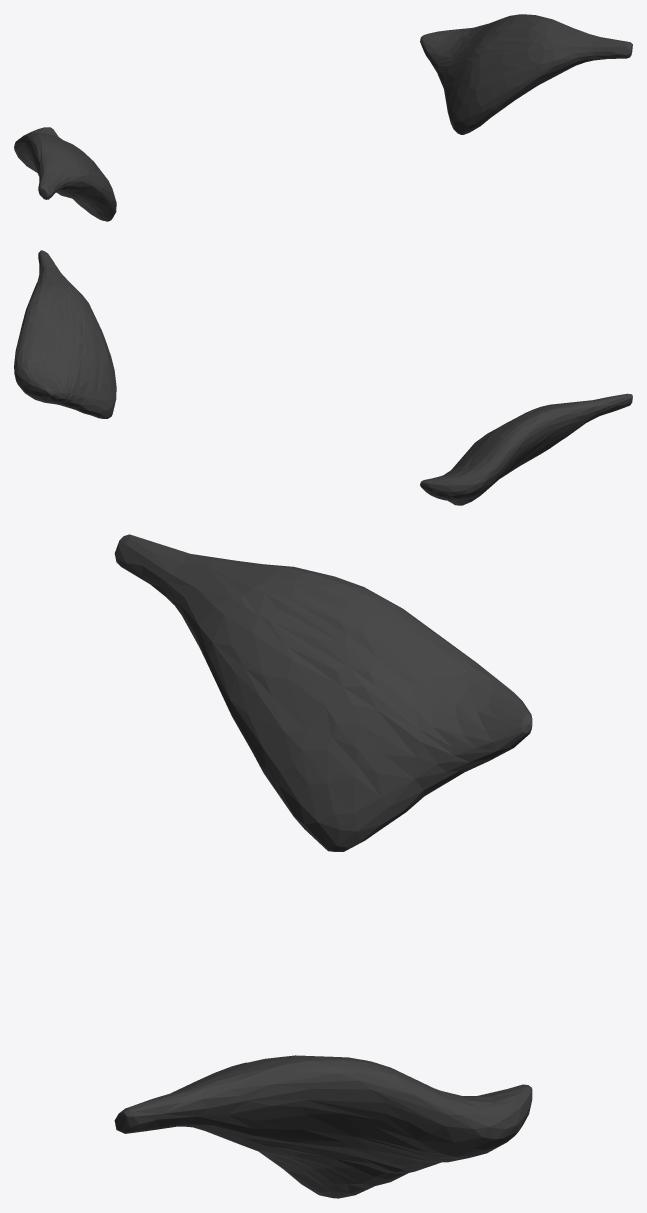
The model's file is m_gemellus.glb.
The picture shows the model from 3 angles, top to bottom: view 1: azimuth 30°, elevation 25°; view 2: azimuth 150°, elevation 25°; view 3: azimuth 270°, elevation 25°; orthographic projection. The views are drawn at different scales.
Parts seen in each view (by area): view 1: m_gemellus; view 2: m_gemellus; view 3: m_gemellus.
Part boxes in pixels (x1,y1,x2,y2): m_gemellus: (14, 14, 632, 221); m_gemellus: (14, 250, 632, 505); m_gemellus: (114, 534, 532, 1198).
Bounding box in the file's own units: 0.00424 × 0.000712 × 0.00129.
1 material, 1 textured.
